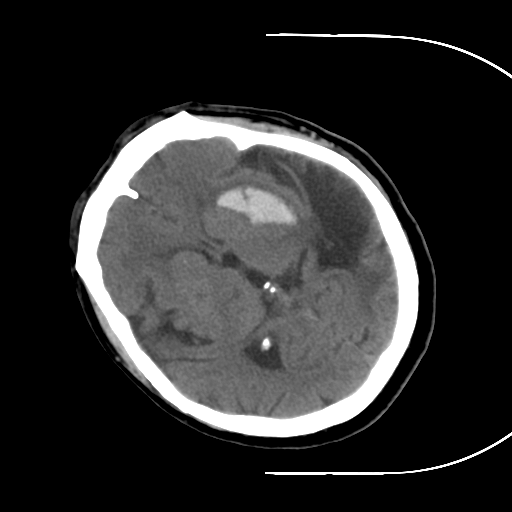a: (196, 170, 311, 241)
